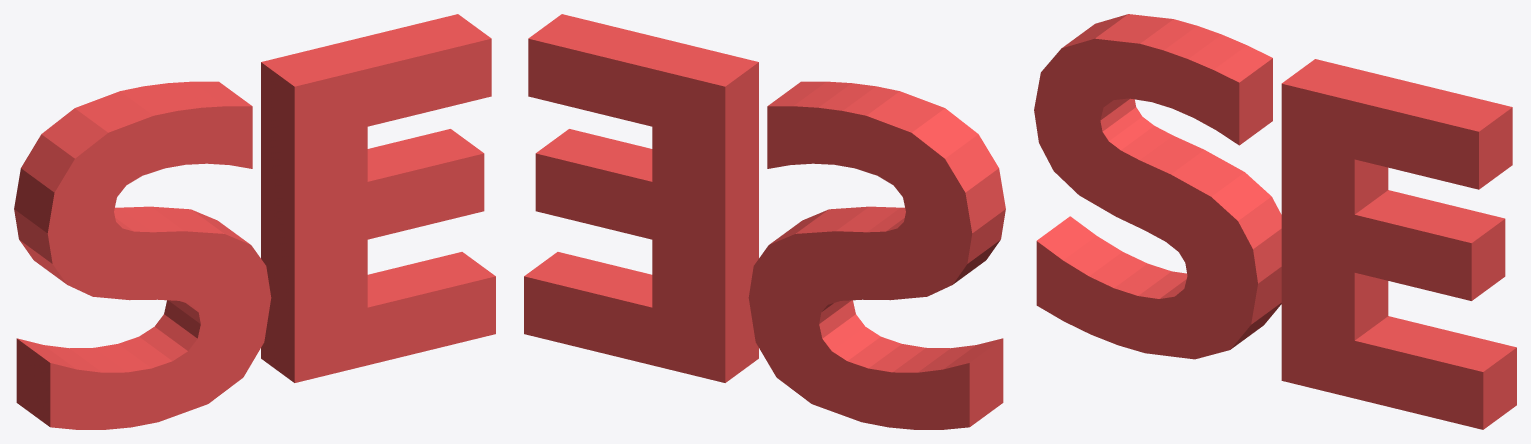
File: suku_besar_se.glb
3 views of the same model, side by side, from view 1: azimuth 30°, elevation 25°; view 2: azimuth 150°, elevation 25°; view 3: azimuth 330°, elevation 25° (orthographic).
Parts seen in each view (by area): view 1: geometry_0; view 2: geometry_0; view 3: geometry_0.
Part boxes in pixels (x1=…): geometry_0: x1=14, y1=14, x2=495, y2=429; geometry_0: x1=524, y1=14, x2=1005, y2=429; geometry_0: x1=1034, y1=14, x2=1516, y2=429.
Bounding box in the file's own units: 11.53 × 7.56 × 1.5.
